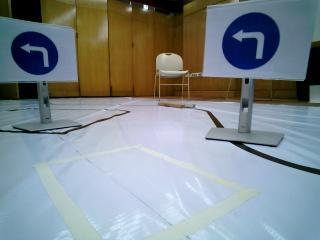left: (211, 5, 303, 74), (3, 26, 69, 78)
